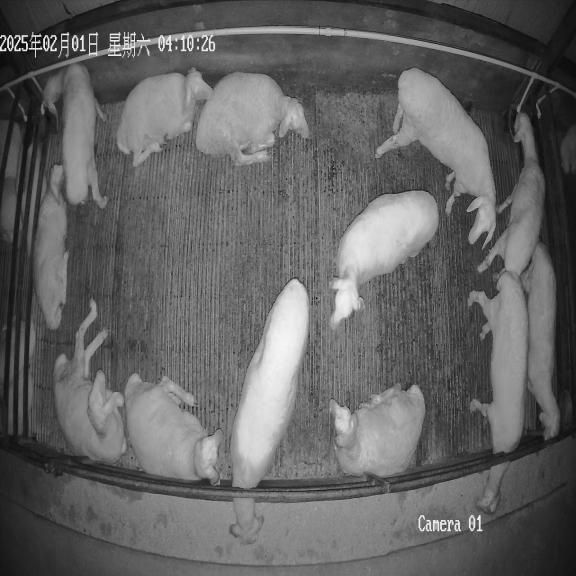drinking: (477, 112, 545, 275), (41, 64, 106, 208)
eating: (229, 278, 309, 544), (468, 270, 528, 514)
lying: (53, 302, 127, 464), (125, 374, 222, 485), (196, 72, 309, 166), (116, 68, 213, 167), (329, 384, 425, 478), (34, 164, 68, 330)
stand: (376, 68, 496, 246), (329, 190, 438, 330), (521, 242, 560, 440)
